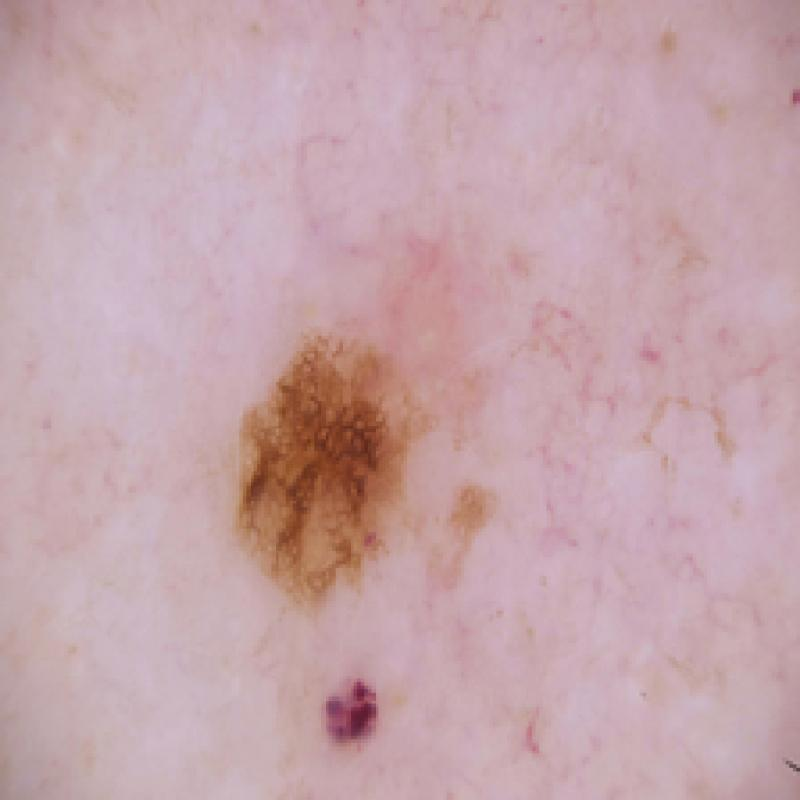benign: (216, 332, 507, 627), (288, 653, 412, 762)
